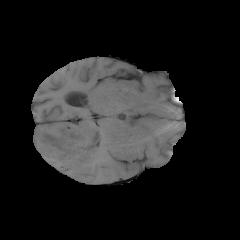glioma: (33, 95, 102, 175)
